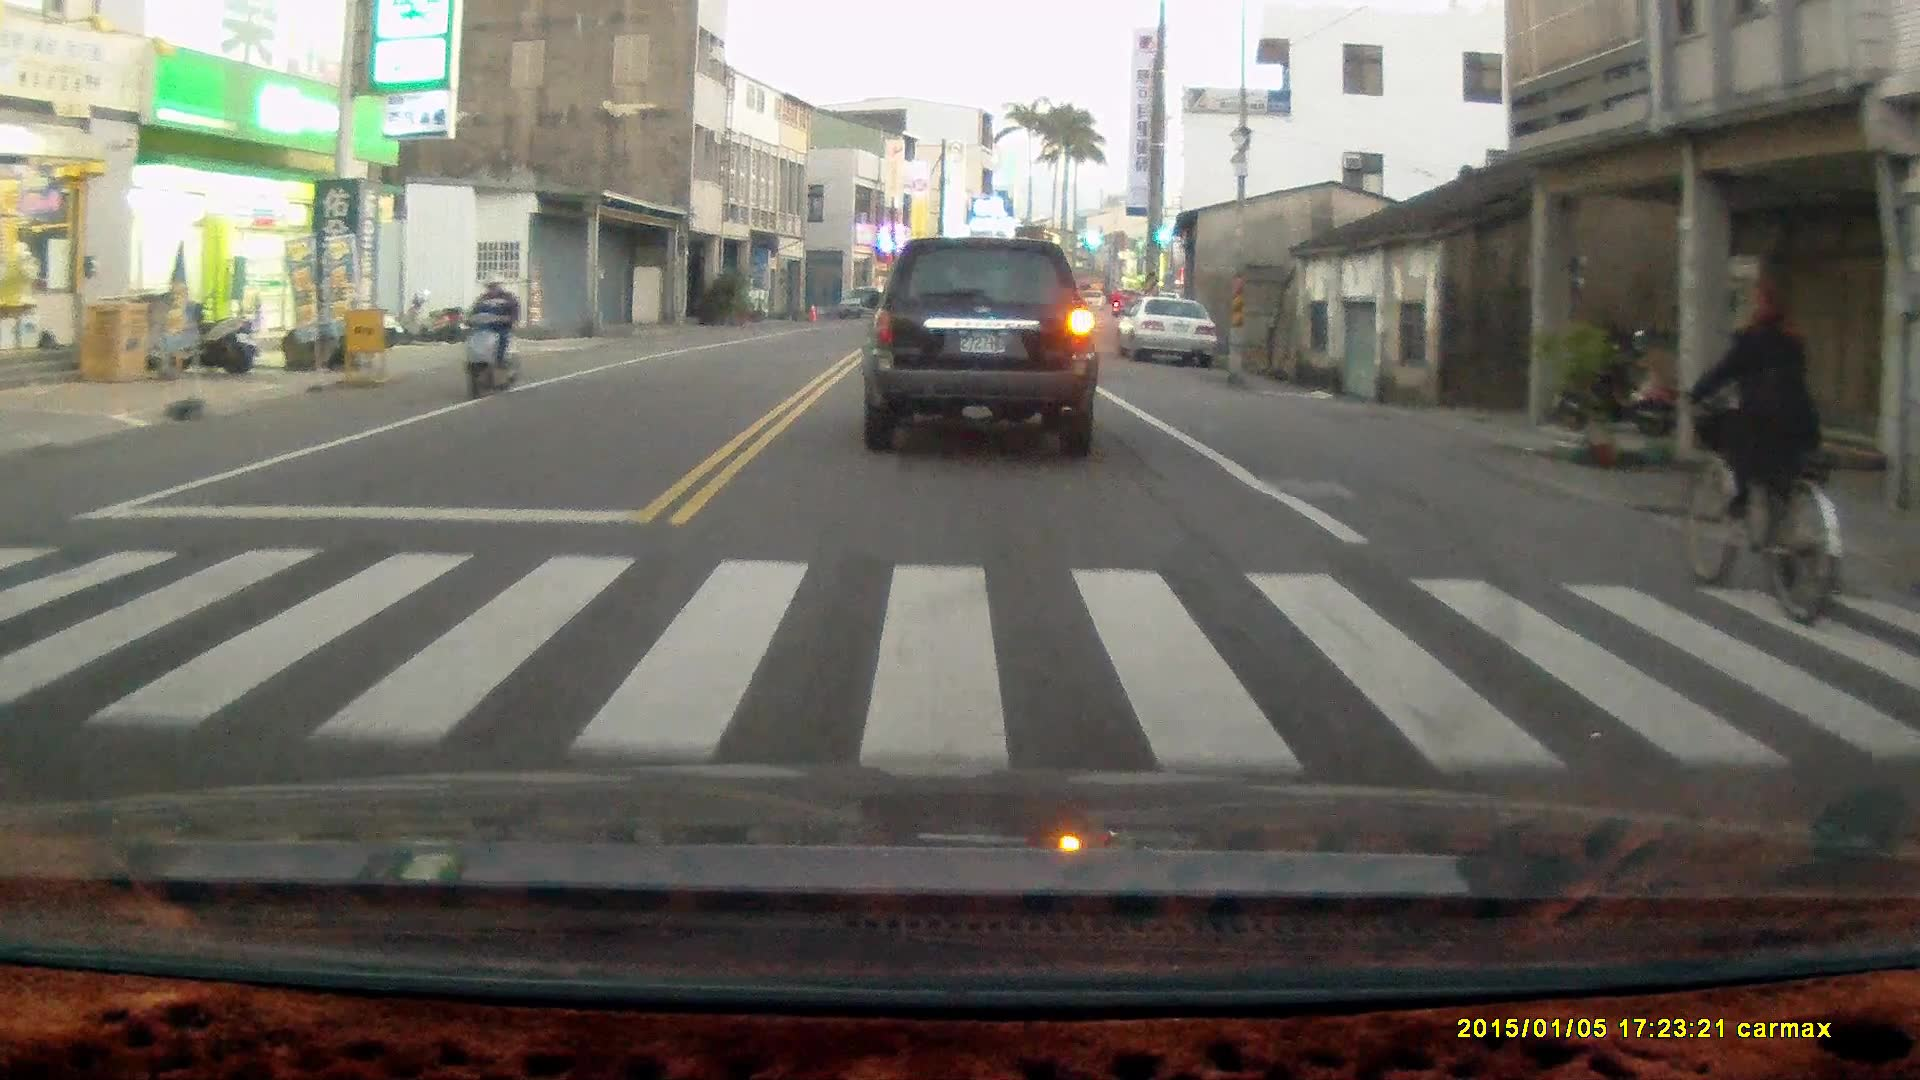rider: (1678, 283, 1848, 629), (450, 267, 522, 399)
vehicle: (861, 234, 1100, 459), (1121, 295, 1224, 364)
